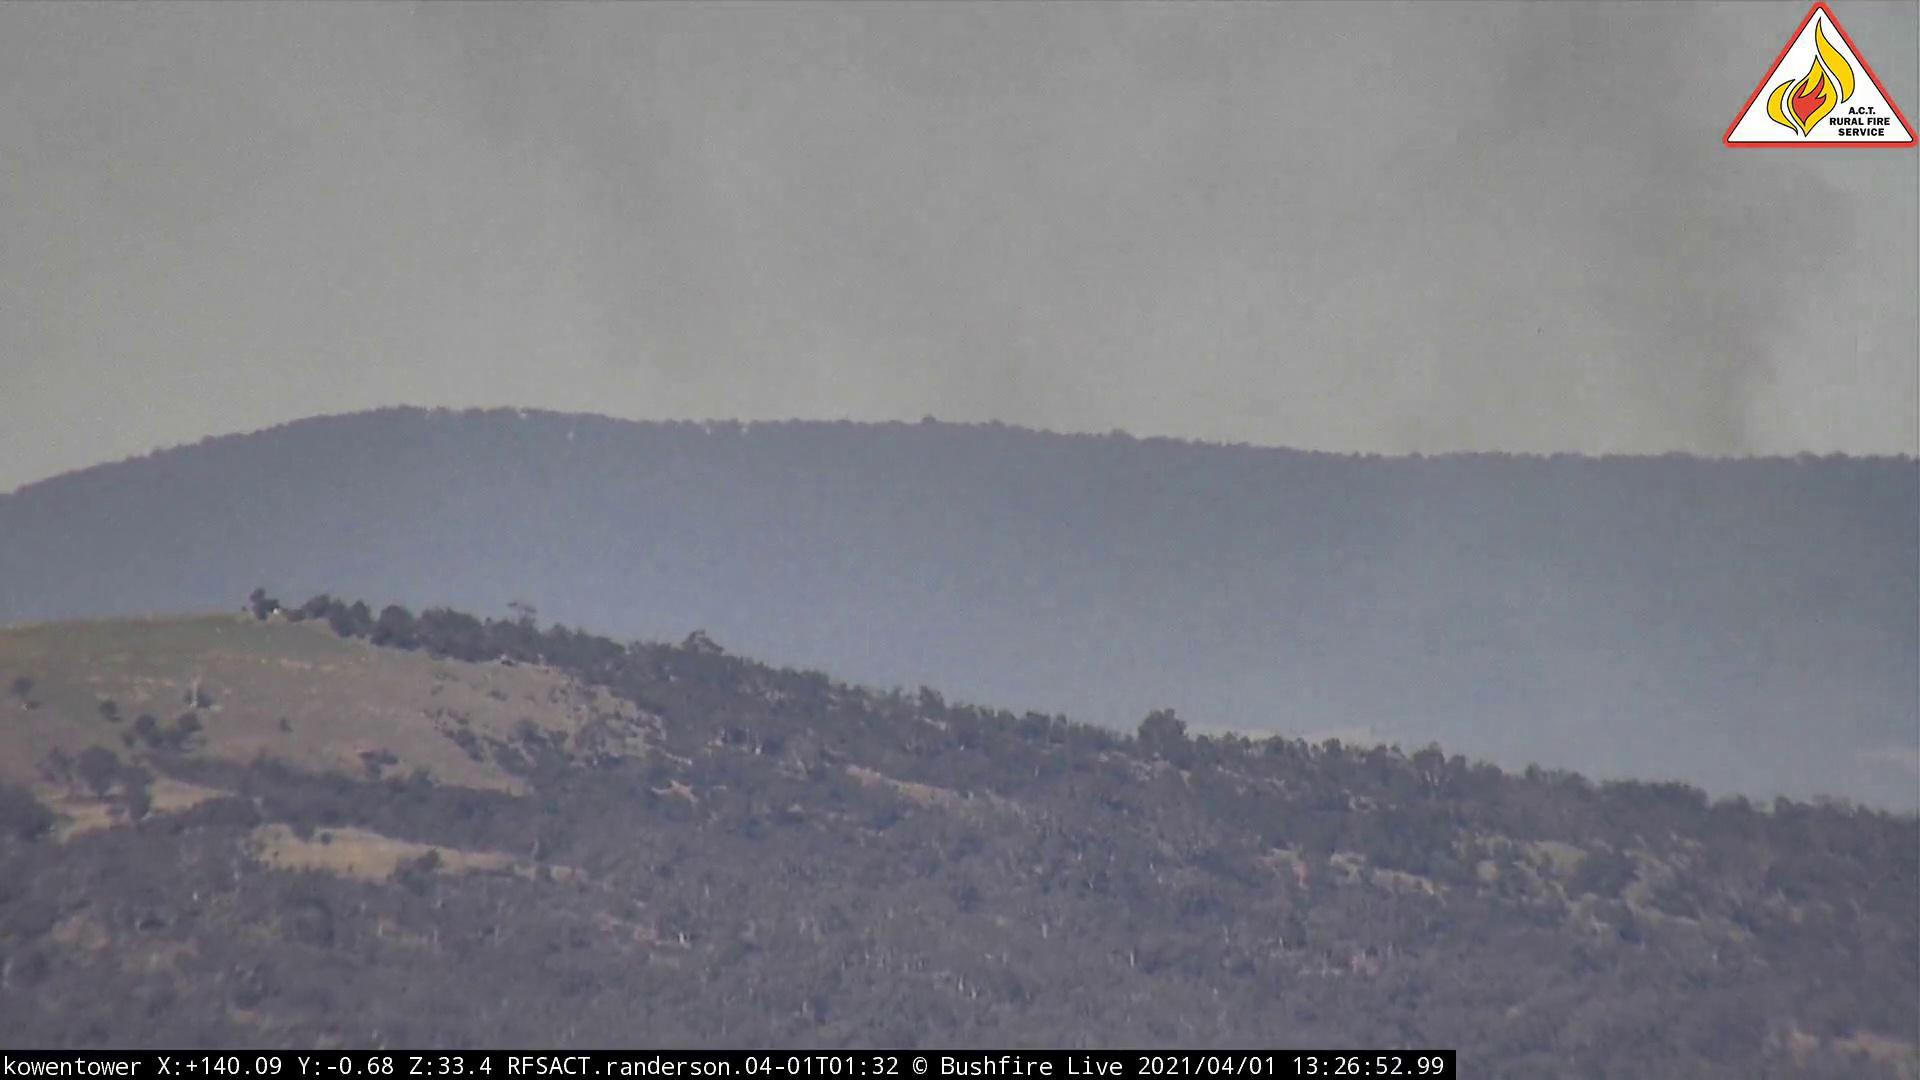Smoke: (546, 3, 1883, 756)
